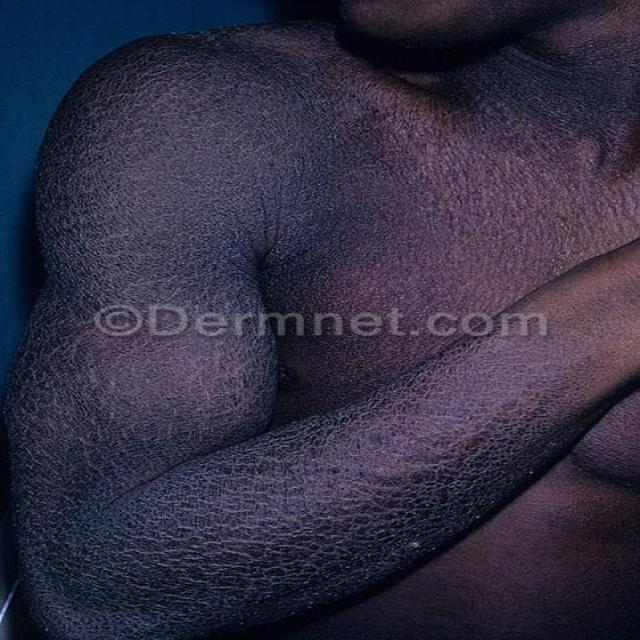liquenificacion 1: (2, 22, 635, 639)
liquenificacion 2: (2, 22, 635, 639)
liquenificacion 3: (2, 22, 635, 639)
